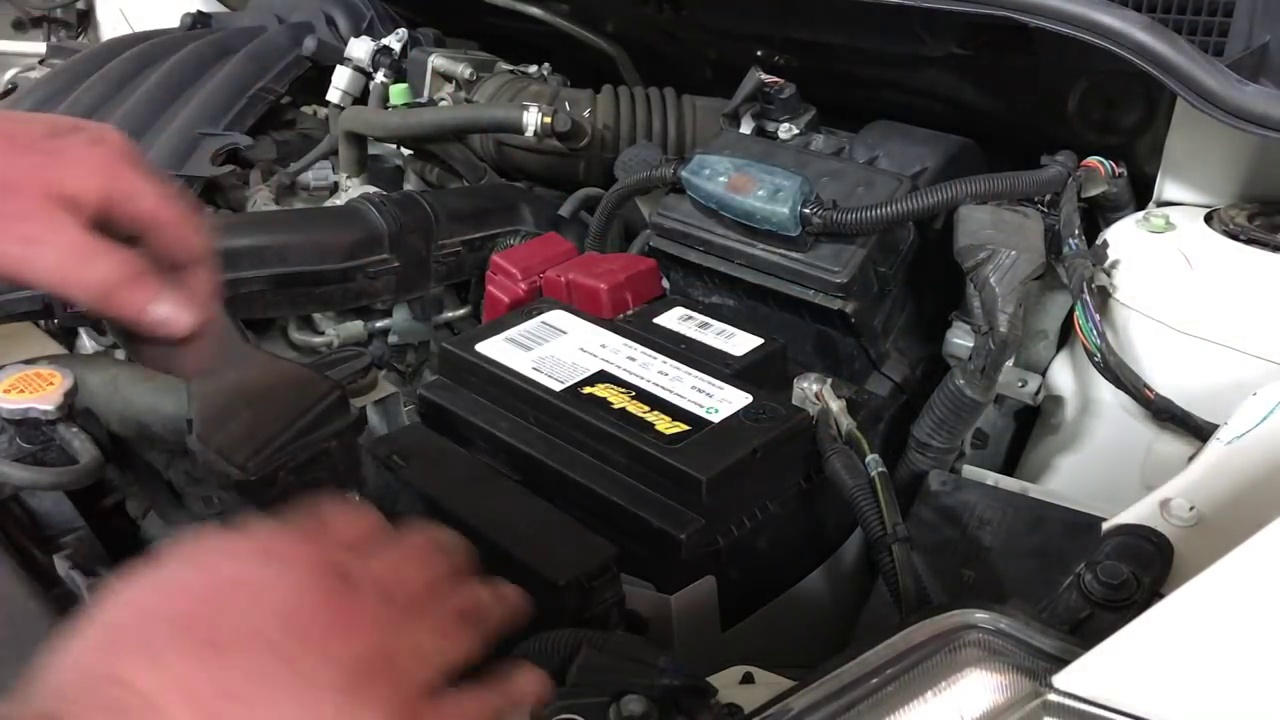battery: (441, 270, 853, 480)
neg_connected: (780, 351, 873, 479)
pos_connected: (477, 226, 665, 333)
